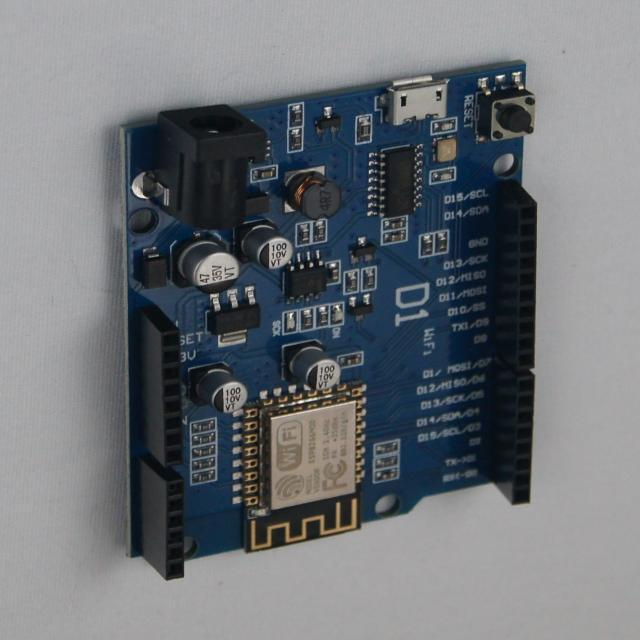Arduino Uno WiFi Shield: (123, 62, 537, 580)
